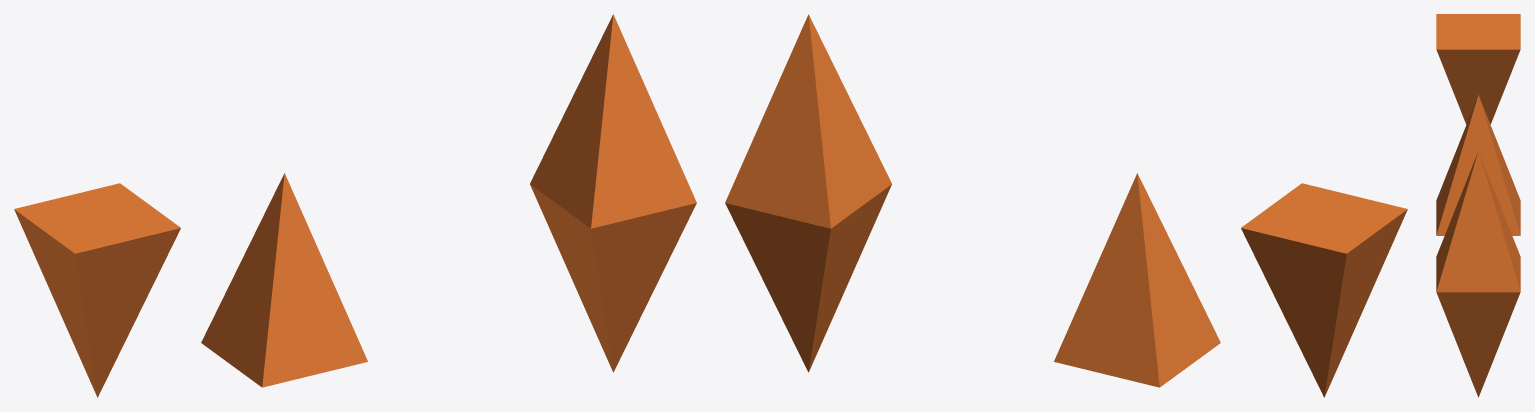
File: docoration.fbx
The picture shows the model from 3 angles, left to right: view 1: azimuth 30°, elevation 25°; view 2: azimuth 150°, elevation 25°; view 3: azimuth 270°, elevation 25°; orthographic projection. The views are drawn at different scales.
Parts seen in each view (by area): view 1: Pyramid_3, Pyramid_1, Pyramid; view 2: Pyramid_3, Pyramid_1, Pyramid; view 3: Pyramid_3, Pyramid_1, Pyramid.
Boxes of the visible parts, x1,y1,x2,y2 form: Pyramid_3: (530, 14, 696, 372); Pyramid_1: (14, 183, 180, 397); Pyramid: (201, 173, 367, 387); Pyramid_3: (725, 14, 891, 372); Pyramid_1: (1241, 183, 1407, 397); Pyramid: (1054, 173, 1220, 387); Pyramid_3: (1436, 151, 1520, 397); Pyramid_1: (1436, 14, 1520, 124); Pyramid: (1436, 95, 1520, 235).
Bounding box in the file's own units: 587 × 324 × 100.
